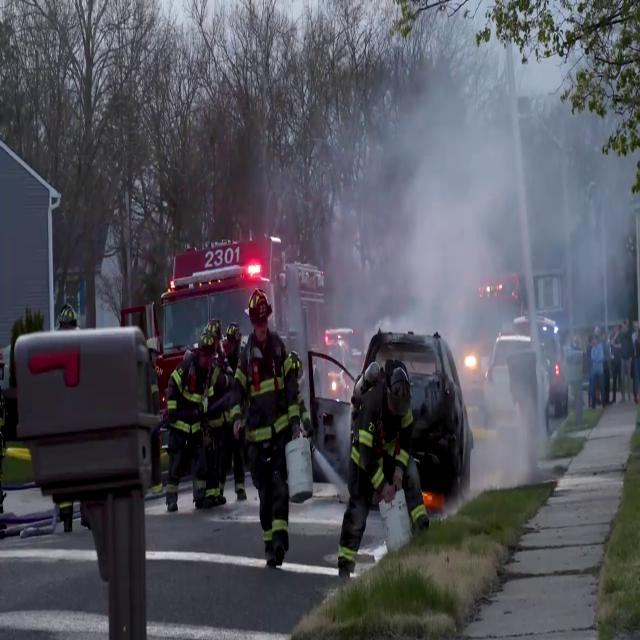Smoke: (322, 18, 640, 394)
